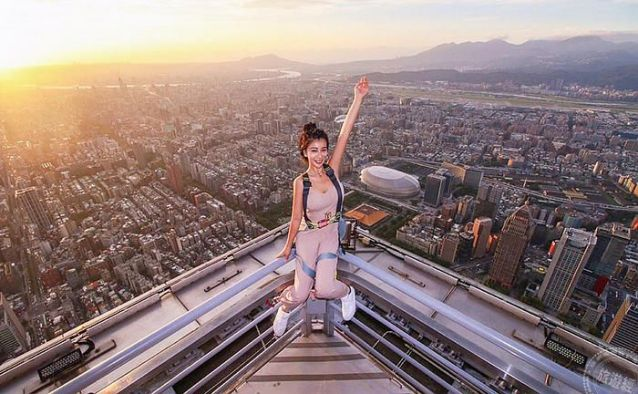people: (288, 125, 357, 322)
